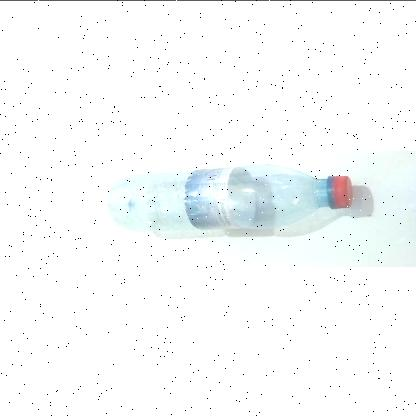Plastic Bottle: (108, 163, 354, 229)
